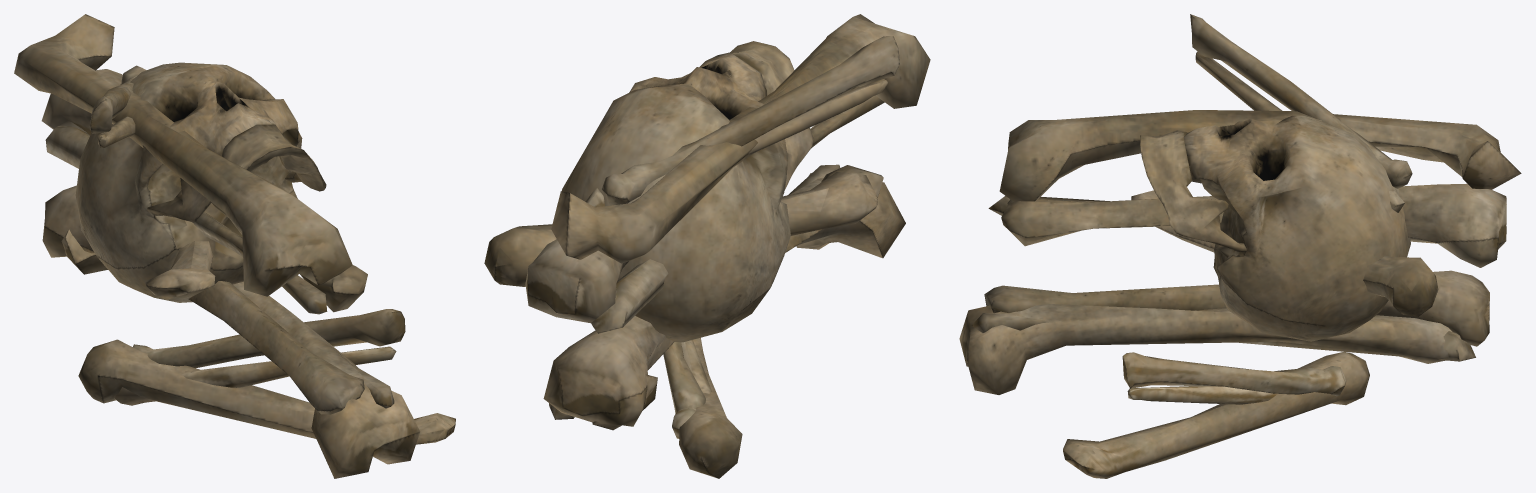
File: Skull.glb
The picture shows the model from 3 angles, left to right: view 1: azimuth 30°, elevation 25°; view 2: azimuth 150°, elevation 25°; view 3: azimuth 270°, elevation 25°; orthographic projection. The views are drawn at different scales.
Parts seen in each view (by area): view 1: SM_Skeleton_Base.007, SM_Skeleton_Base.009, SM_Skeleton_Base.006, SM_Skeleton_Base.001, SM_Skeleton_Base.008, SM_Skeleton_Base.005, SM_Skeleton_Base.002, SM_Skeleton_Base.004, SM_Skeleton_Base.003; view 2: SM_Skeleton_Base.007, SM_Skeleton_Base.009, SM_Skeleton_Base.003, SM_Skeleton_Base.001, SM_Skeleton_Base.002, SM_Skeleton_Base.004, SM_Skeleton_Base.006, SM_Skeleton_Base.008, SM_Skeleton_Base.005; view 3: SM_Skeleton_Base.007, SM_Skeleton_Base.009, SM_Skeleton_Base.008, SM_Skeleton_Base.002, SM_Skeleton_Base.001, SM_Skeleton_Base.006, SM_Skeleton_Base.005, SM_Skeleton_Base.003, SM_Skeleton_Base.004.
Boxes of the visible parts, x1=… form: SM_Skeleton_Base.007: x1=75, y1=62, x2=326, y2=302; SM_Skeleton_Base.009: x1=14, y1=14, x2=352, y2=296; SM_Skeleton_Base.006: x1=78, y1=339, x2=455, y2=444; SM_Skeleton_Base.001: x1=42, y1=185, x2=394, y2=414; SM_Skeleton_Base.008: x1=61, y1=229, x2=420, y2=478; SM_Skeleton_Base.005: x1=114, y1=309, x2=405, y2=405; SM_Skeleton_Base.002: x1=41, y1=69, x2=367, y2=314; SM_Skeleton_Base.004: x1=145, y1=241, x2=215, y2=299; SM_Skeleton_Base.003: x1=89, y1=65, x2=146, y2=147; SM_Skeleton_Base.007: x1=561, y1=41, x2=813, y2=342; SM_Skeleton_Base.009: x1=551, y1=14, x2=930, y2=263; SM_Skeleton_Base.003: x1=585, y1=36, x2=899, y2=207; SM_Skeleton_Base.001: x1=543, y1=164, x2=883, y2=426; SM_Skeleton_Base.002: x1=525, y1=87, x2=884, y2=333; SM_Skeleton_Base.004: x1=484, y1=172, x2=877, y2=286; SM_Skeleton_Base.006: x1=679, y1=337, x2=742, y2=478; SM_Skeleton_Base.008: x1=592, y1=173, x2=905, y2=430; SM_Skeleton_Base.005: x1=663, y1=340, x2=711, y2=438; SM_Skeleton_Base.007: x1=1140, y1=115, x2=1410, y2=341; SM_Skeleton_Base.009: x1=999, y1=110, x2=1521, y2=202; SM_Skeleton_Base.008: x1=959, y1=304, x2=1452, y2=394; SM_Skeleton_Base.002: x1=988, y1=183, x2=1506, y2=267; SM_Skeleton_Base.001: x1=971, y1=270, x2=1489, y2=361; SM_Skeleton_Base.006: x1=1063, y1=351, x2=1369, y2=478; SM_Skeleton_Base.005: x1=1122, y1=352, x2=1346, y2=404; SM_Skeleton_Base.003: x1=1190, y1=14, x2=1412, y2=212; SM_Skeleton_Base.004: x1=1131, y1=190, x2=1438, y2=316.
Bounding box in the file's own units: 11.71 × 13.69 × 20.09.
1 material, 1 textured.
